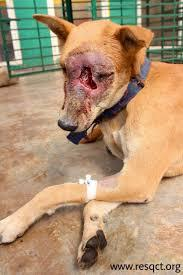cut: (68, 52, 108, 105)
